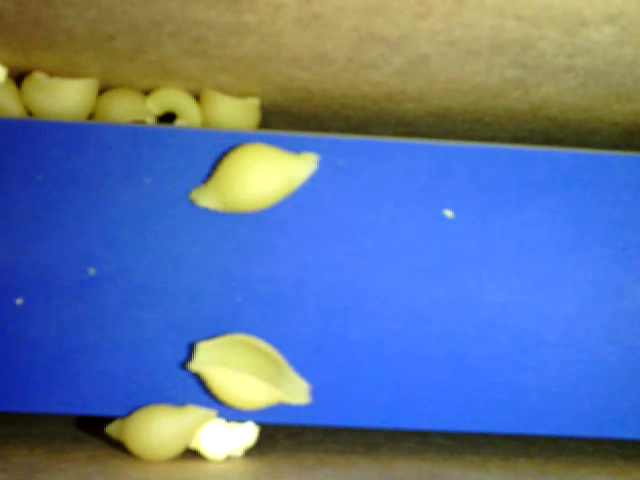elbow: (145, 84, 205, 125)
shell: (186, 139, 319, 216), (185, 333, 311, 411), (103, 401, 219, 463), (20, 70, 98, 120), (197, 84, 258, 127), (92, 86, 153, 125)
